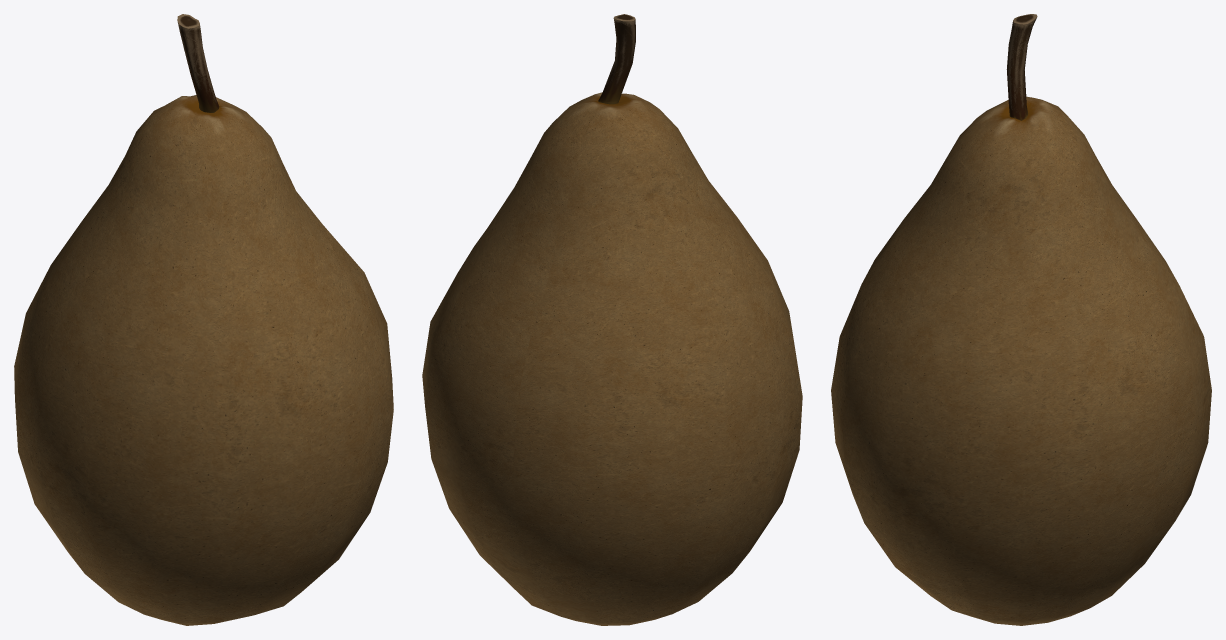
The model's file is lizi.FBX.
The picture shows the model from 3 angles, left to right: view 1: azimuth 30°, elevation 25°; view 2: azimuth 150°, elevation 25°; view 3: azimuth 270°, elevation 25°; orthographic projection. The views are drawn at different scales.
Parts seen in each view (by area): view 1: lizi; view 2: lizi; view 3: lizi.
Part boxes in pixels (x1,y1,x2,y2): lizi: (14,14,393,625); lizi: (422,14,802,625); lizi: (831,14,1211,625).
Size of the model in its own units: 9.03 by 15.36 by 9.2.
1 material, 1 textured.
